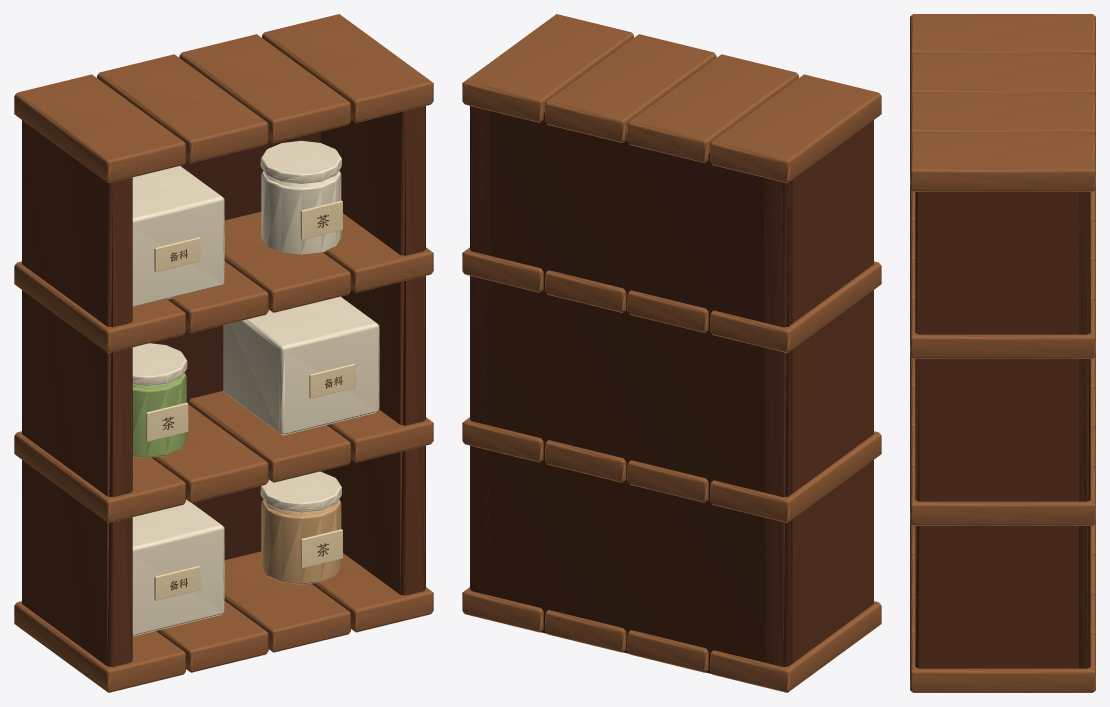
Rendered from storage_cabinet.fbx.
3 views of the same model, side by side, from view 1: azimuth 30°, elevation 25°; view 2: azimuth 150°, elevation 25°; view 3: azimuth 270°, elevation 25° (orthographic).
Parts seen in each view (by area): view 1: storage_cabinet; view 2: storage_cabinet; view 3: storage_cabinet.
Part boxes in pixels (left/top/right/bottom): storage_cabinet: left=14, top=14, right=433, bottom=692; storage_cabinet: left=462, top=14, right=881, bottom=692; storage_cabinet: left=910, top=14, right=1095, bottom=692.
Bounding box in the file's own units: 72 × 112 × 36.
